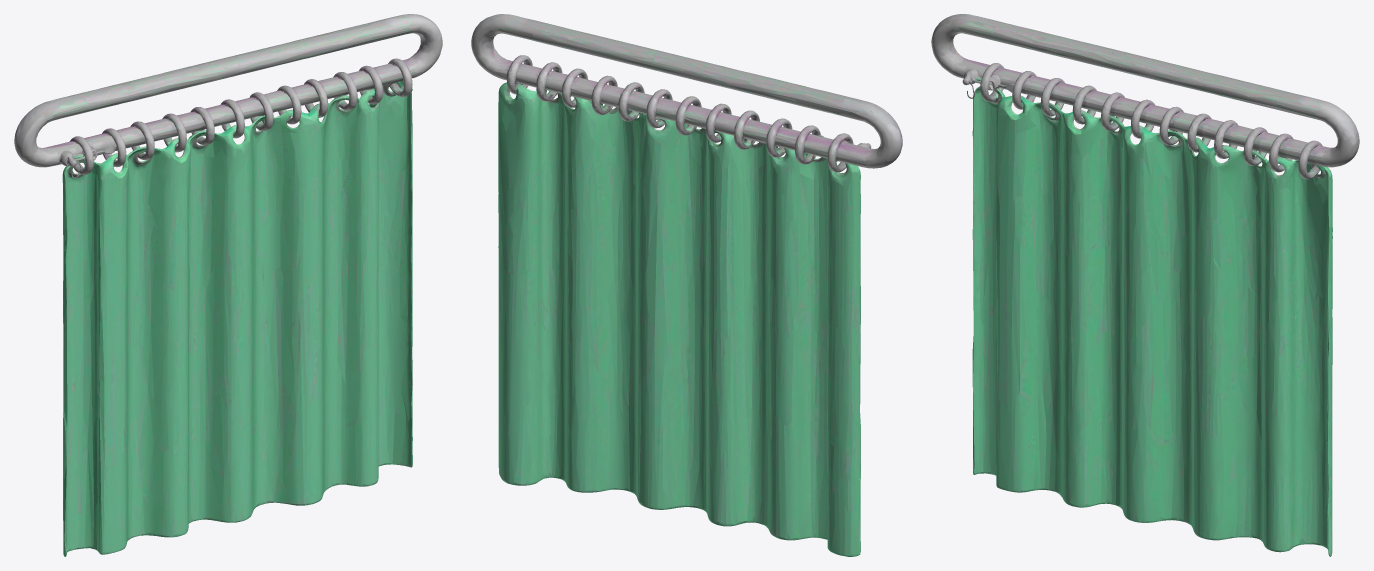
Rendered from curtain-rail.glb.
The picture shows the model from 3 angles, left to right: view 1: azimuth 30°, elevation 25°; view 2: azimuth 150°, elevation 25°; view 3: azimuth 330°, elevation 25°; orthographic projection.
Visible parts, largest first — view 1: Mesh_0; view 2: Mesh_0; view 3: Mesh_0.
Boxes of the visible parts, x1,y1,x2,y2 form: Mesh_0: [14, 14, 442, 556]; Mesh_0: [471, 14, 902, 556]; Mesh_0: [931, 14, 1359, 556].
Bounding box in the file's own units: 1.86 × 1.9 × 0.1878.
Materials: 1 (1 with a texture image).
